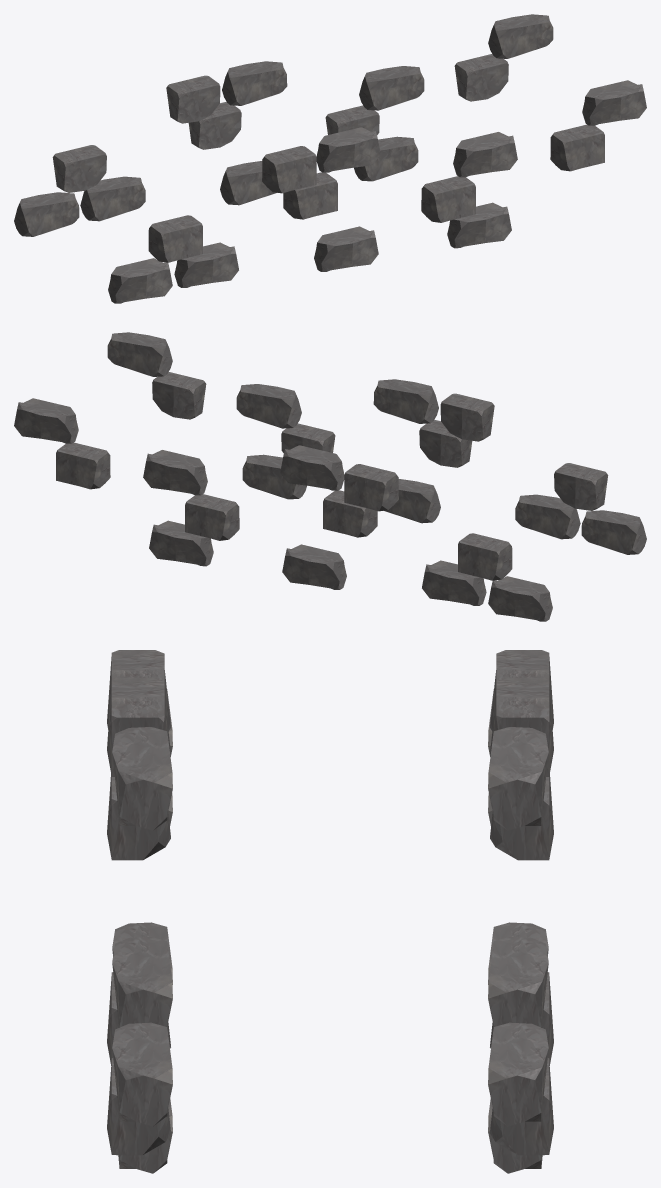
The model's file is Batu.fbx.
3 renders of one model, top to bottom at view 1: azimuth 30°, elevation 25°; view 2: azimuth 150°, elevation 25°; view 3: azimuth 270°, elevation 25°, orthographic. The views are drawn at different scales.
Visible parts, largest first — view 1: Tembok.002; view 2: Tembok.002; view 3: Tembok.002.
Boxes of the visible parts, x1,y1,x2,y2 form: Tembok.002: (14, 14, 646, 303); Tembok.002: (14, 332, 646, 621); Tembok.002: (107, 650, 553, 1173).
Size of the model in its own units: 226 by 55.85 by 82.45.
